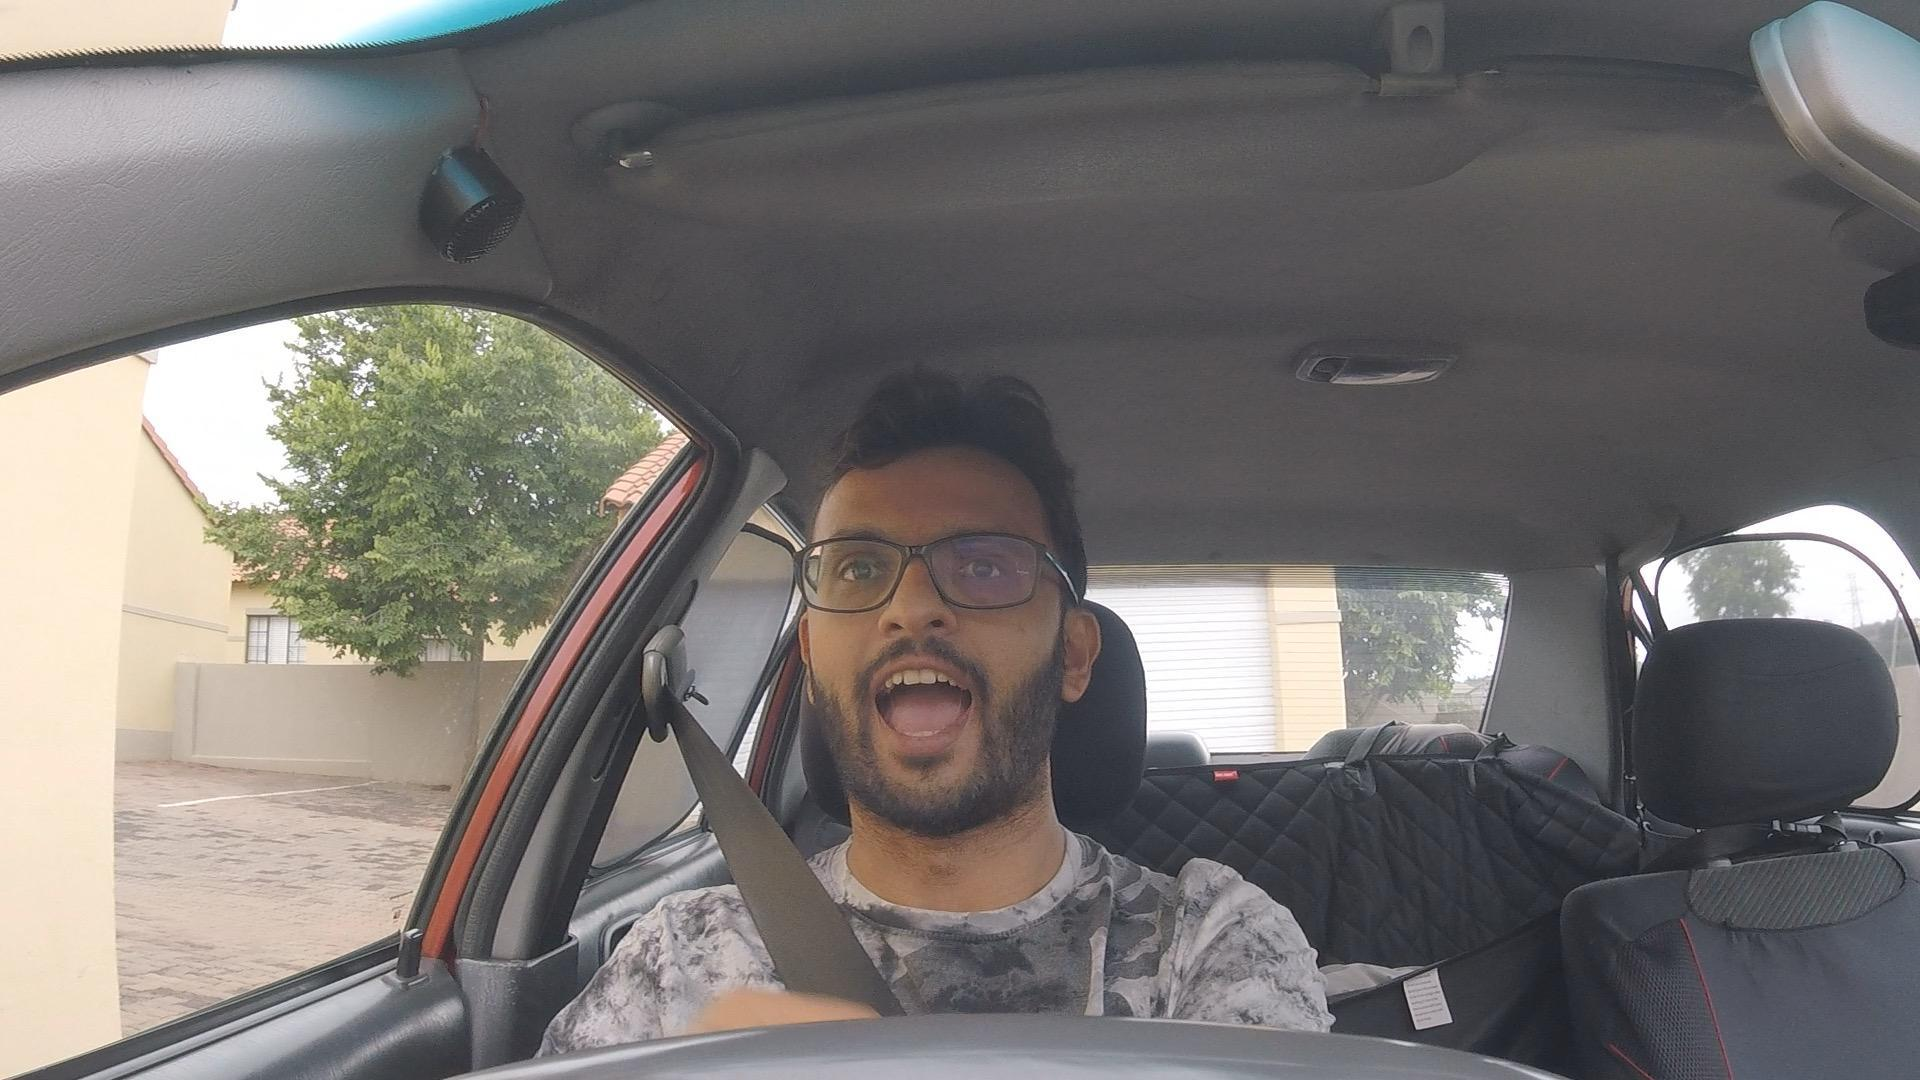SafeDriving: (794, 367, 1108, 837)
